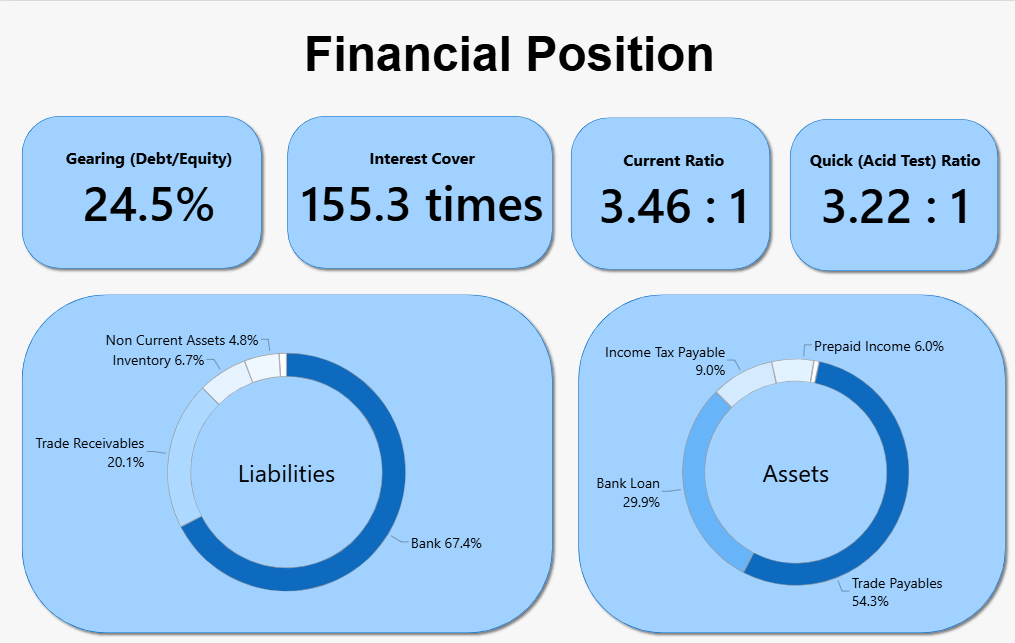

What the dashboard file says about the page in this screenshot:
{"tool":"powerbi","page":{"name":"Financial Position","canvas":[1698,1080],"ordinal":1},"visuals":[{"type":"shape","box":[27.5,182.5,417.5,272.5],"z":0},{"type":"shape","box":[470,182.5,460,272.5],"z":1000},{"type":"shape","box":[943.4,186.2,350,271.7],"z":2000},{"type":"shape","box":[1308.4,187,365,271.7],"z":3000},{"type":"cardVisual","fields":{"Data":["Median(All Ratios.Gearing Ratio (debt/equity))","Min(All Ratios.Interest Cover)"]},"box":[25,180,902.5,272.5],"z":4000},{"type":"cardVisual","fields":{"Data":["Min(All Ratios.Current Ratio)","Min(All Ratios.Quick (Acid Test) Ratio)"]},"box":[942.5,182.5,730,273.3],"z":5000},{"type":"shape","box":[955,480,730,582.5],"z":6000},{"type":"shape","box":[27.5,480,902.5,582.5],"z":7000},{"type":"donutChart","fields":{"Category":["Liabilities.Liability Type"],"Y":["Median(Liabilities.Value)"]},"box":[955,510,742.5,552.5],"z":8000},{"type":"donutChart","fields":{"Category":["Assets.Asset Type"],"Y":["Sum(Assets.Value)"]},"box":[0,510,955,552.5],"z":9000},{"type":"textbox","box":[445,42.5,807.5,97.5],"z":10000}]}

Visuals, with their boxes in screenshot pixels (x1, y1, x2, y2), scaled from the page's 1698x1080 canvas onto the 1015x643 screenshot:
shape: [16, 109, 266, 271]
shape: [281, 109, 556, 271]
shape: [564, 111, 773, 273]
shape: [782, 111, 1000, 273]
cardVisual - Median(All Ratios.Gearing Ratio (debt/equity)) x Min(All Ratios.Interest Cover): [15, 107, 554, 269]
cardVisual - Min(All Ratios.Current Ratio) x Min(All Ratios.Quick (Acid Test) Ratio): [563, 109, 1000, 271]
shape: [571, 286, 1007, 633]
shape: [16, 286, 556, 633]
donutChart - Liabilities.Liability Type x Median(Liabilities.Value): [571, 304, 1014, 633]
donutChart - Assets.Asset Type x Sum(Assets.Value): [0, 304, 571, 633]
textbox: [266, 25, 749, 83]
